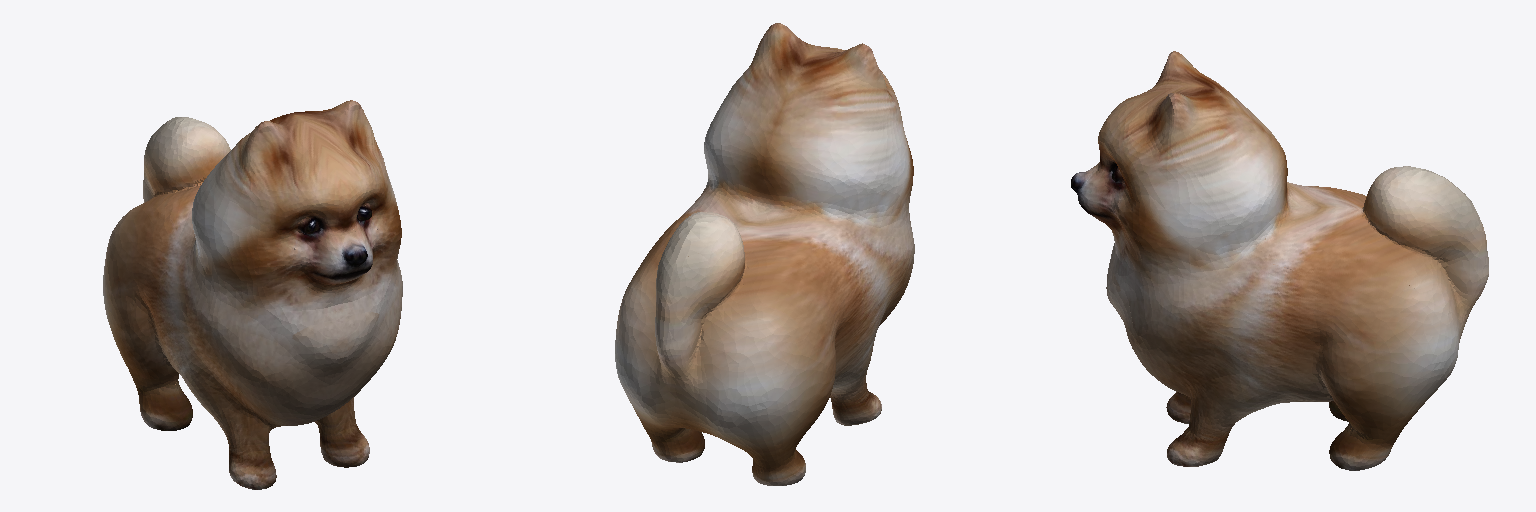
3 views of the same model, side by side, from view 1: azimuth 30°, elevation 25°; view 2: azimuth 150°, elevation 25°; view 3: azimuth 270°, elevation 25° (orthographic).
Visible parts, largest first — view 1: Pomeranian_; view 2: Pomeranian_; view 3: Pomeranian_.
Boxes of the visible parts, box(x1,y1,x2,y2) form: Pomeranian_: box(103, 100, 402, 489); Pomeranian_: box(615, 23, 914, 485); Pomeranian_: box(1071, 51, 1488, 470).
Bounding box in the file's own units: 2.98 × 5.3 × 5.48.
Materials: 1 (1 with a texture image).